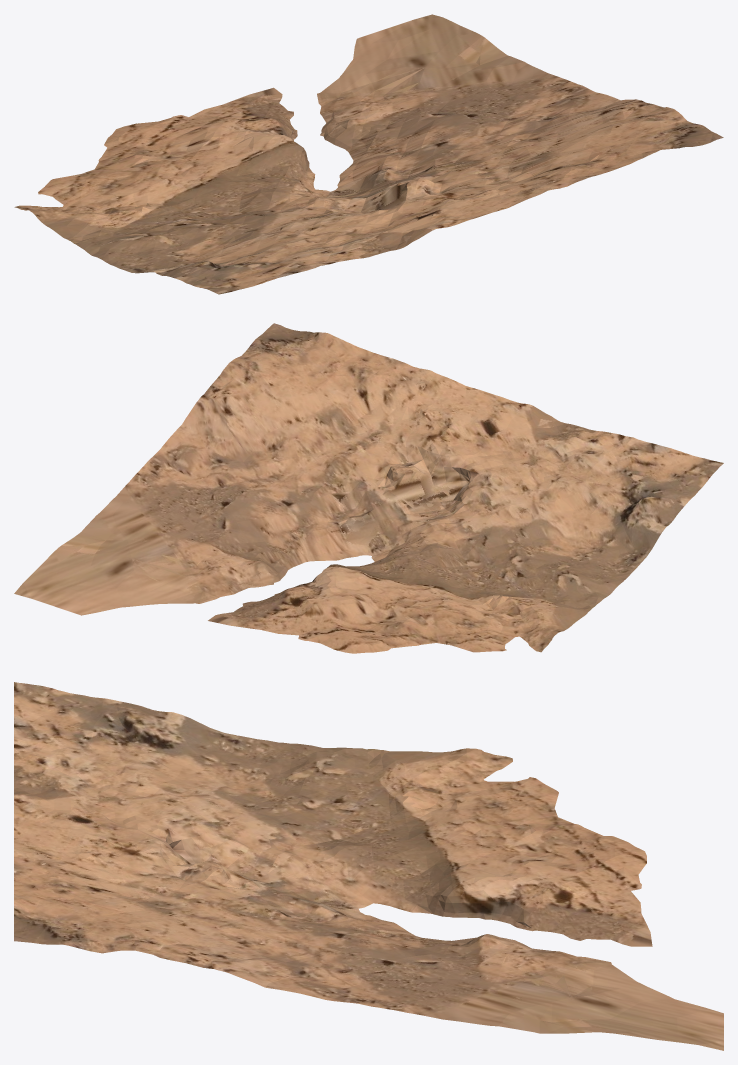
The picture shows the model from 3 angles, top to bottom: view 1: azimuth 30°, elevation 25°; view 2: azimuth 150°, elevation 25°; view 3: azimuth 270°, elevation 25°; orthographic projection. The views are drawn at different scales.
Bounding box in the file's own units: 1.04 × 0.1973 × 1.04.
2 materials, 2 textured.
